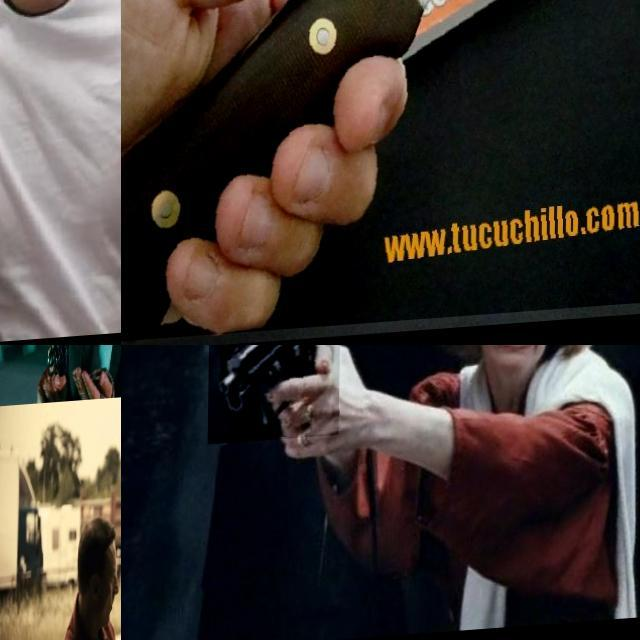-: (121, 0, 640, 345), (0, 0, 37, 169)
gun-knife-thesis - v11 Yolov5 augmented: (208, 345, 341, 446), (37, 345, 77, 408), (0, 435, 15, 551), (0, 345, 9, 370), (0, 345, 8, 369), (0, 345, 8, 367), (0, 345, 7, 369), (0, 345, 7, 364)
